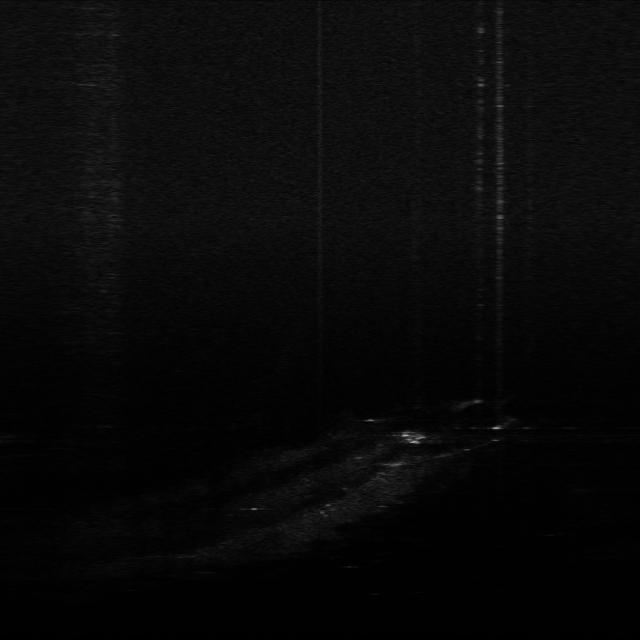rov: (398, 430, 431, 448)
